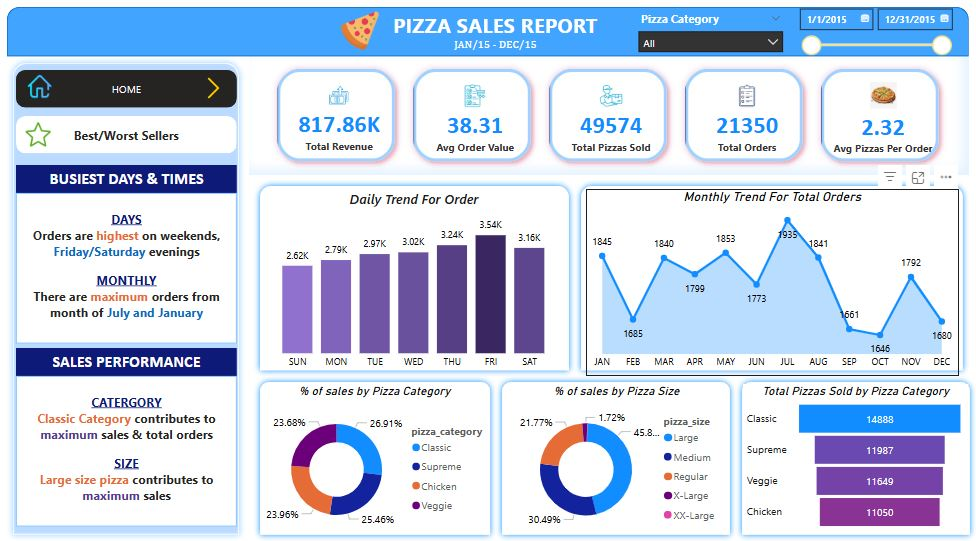

What the dashboard file says about the page in this screenshot:
{"tool":"powerbi","page":{"name":"HOME","canvas":[1280,720],"ordinal":0},"visuals":[{"type":"cardVisual","fields":{"Data":["pizza_sales.Total Revenue","pizza_sales.Avg Order Value","pizza_sales.Total Pizzas Sold","pizza_sales.Total Orders","pizza_sales.Avg Pizzas Per Order"]},"box":[327.7,74.9,941.9,155.8],"z":0},{"type":"shape","box":[10.3,10.3,1259.3,64.7],"z":1000},{"type":"textbox","box":[473.1,10.3,354.1,50],"z":2000},{"type":"textbox","box":[565.7,44.1,169,32.3],"z":3000},{"type":"image","box":[408.5,10.3,127.8,61.7],"z":4000},{"type":"shape","box":[333.6,236.6,420.2,257.1],"z":5000},{"type":"columnChart","title":"Daily Trend For Order","fields":{"Category":["pizza_sales.Order Day"],"Y":["pizza_sales.Total Orders"]},"box":[345.3,248.3,395.3,245.4],"z":6000},{"type":"shape","box":[753.8,236.6,515.8,257.1],"z":7000},{"type":"areaChart","title":"Monthly Trend For Total Orders","fields":{"Category":["pizza_sales.Order Month"],"Y":["pizza_sales.Total Orders"]},"box":[768.5,248.3,487.8,245.4],"z":8000},{"type":"shape","box":[333.6,493.7,317.4,216],"z":9000},{"type":"shape","box":[650.9,493.7,314.4,216],"z":10000},{"type":"shape","box":[965.4,493.7,314.4,216],"z":11000},{"type":"donutChart","title":"% of sales by Pizza Category","fields":{"Category":["pizza_sales.pizza_category"],"Y":["pizza_sales.Total Revenue"]},"box":[339.4,504,305.6,205.7],"z":12000},{"type":"donutChart","title":"% of sales by Pizza Size","fields":{"Y":["pizza_sales.Total Revenue"],"Category":["pizza_sales.pizza_size"]},"box":[662.7,504,292.4,205.7],"z":13000},{"type":"funnel","title":"Total Pizzas Sold by Pizza Category","fields":{"Category":["pizza_sales.pizza_category"],"Y":["pizza_sales.Total Pizzas Sold"]},"box":[974.2,504,295.3,195.4],"z":14000},{"type":"shape","box":[10.3,76.4,311.5,633.3],"z":15000},{"type":"textbox","box":[22,217.5,289.5,36.7],"z":16000},{"type":"textbox","box":[22,254.2,289.5,196.9],"z":17000},{"type":"textbox","box":[22,457,289.5,36.7],"z":18000},{"type":"textbox","box":[22,493.7,289.5,196.9],"z":19000},{"type":"slicer","fields":{"Values":["pizza_sales.pizza_category"]},"box":[827.3,10.3,208.7,61.7],"z":20000},{"type":"slicer","fields":{"Values":["pizza_sales.order_date"]},"box":[1035.9,2.9,220.4,79.3],"z":21000},{"type":"pageNavigator","box":[22,92.6,289.5,50],"z":22000},{"type":"pageNavigator","box":[22,152.8,289.5,50],"z":23000},{"type":"image","box":[261.6,95.5,38.2,42.6],"z":24000},{"type":"image","box":[32.3,92.6,41.1,42.6],"z":25000},{"type":"image","box":[29.4,155.8,45.6,42.6],"z":26000}]}

Visuals, with their boxes in screenshot pixels (x1, y1, x2, y2), scaled from the page's 1280x720 canvas onto the 976x541 screenshot:
cardVisual - pizza_sales.Total Revenue x pizza_sales.Avg Order Value: {"left": 250, "top": 56, "right": 968, "bottom": 173}
shape: {"left": 8, "top": 8, "right": 968, "bottom": 56}
textbox: {"left": 361, "top": 8, "right": 631, "bottom": 45}
textbox: {"left": 431, "top": 33, "right": 560, "bottom": 57}
image: {"left": 311, "top": 8, "right": 409, "bottom": 54}
shape: {"left": 254, "top": 178, "right": 575, "bottom": 371}
"Daily Trend For Order" columnChart: {"left": 263, "top": 187, "right": 565, "bottom": 371}
shape: {"left": 575, "top": 178, "right": 968, "bottom": 371}
"Monthly Trend For Total Orders" areaChart: {"left": 586, "top": 187, "right": 958, "bottom": 371}
shape: {"left": 254, "top": 371, "right": 496, "bottom": 533}
shape: {"left": 496, "top": 371, "right": 736, "bottom": 533}
shape: {"left": 736, "top": 371, "right": 975, "bottom": 533}
"% of sales by Pizza Category" donutChart: {"left": 259, "top": 379, "right": 492, "bottom": 533}
"% of sales by Pizza Size" donutChart: {"left": 505, "top": 379, "right": 728, "bottom": 533}
"Total Pizzas Sold by Pizza Category" funnel: {"left": 743, "top": 379, "right": 968, "bottom": 526}
shape: {"left": 8, "top": 57, "right": 245, "bottom": 533}
textbox: {"left": 17, "top": 163, "right": 238, "bottom": 191}
textbox: {"left": 17, "top": 191, "right": 238, "bottom": 339}
textbox: {"left": 17, "top": 343, "right": 238, "bottom": 371}
textbox: {"left": 17, "top": 371, "right": 238, "bottom": 519}
slicer - pizza_sales.pizza_category: {"left": 631, "top": 8, "right": 790, "bottom": 54}
slicer - pizza_sales.order_date: {"left": 790, "top": 2, "right": 958, "bottom": 62}
pageNavigator: {"left": 17, "top": 70, "right": 238, "bottom": 107}
pageNavigator: {"left": 17, "top": 115, "right": 238, "bottom": 152}
image: {"left": 199, "top": 72, "right": 229, "bottom": 104}
image: {"left": 25, "top": 70, "right": 56, "bottom": 102}
image: {"left": 22, "top": 117, "right": 57, "bottom": 149}
